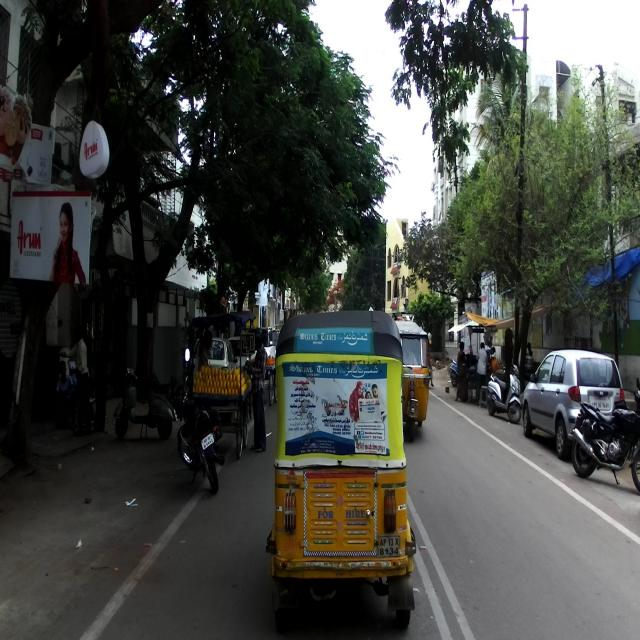autorickshaw: (266, 308, 416, 632)
car: (522, 346, 623, 461), (188, 336, 239, 374)
motorcycle: (570, 374, 640, 494), (173, 348, 225, 492)
scooter: (112, 365, 176, 442), (486, 366, 523, 424)
